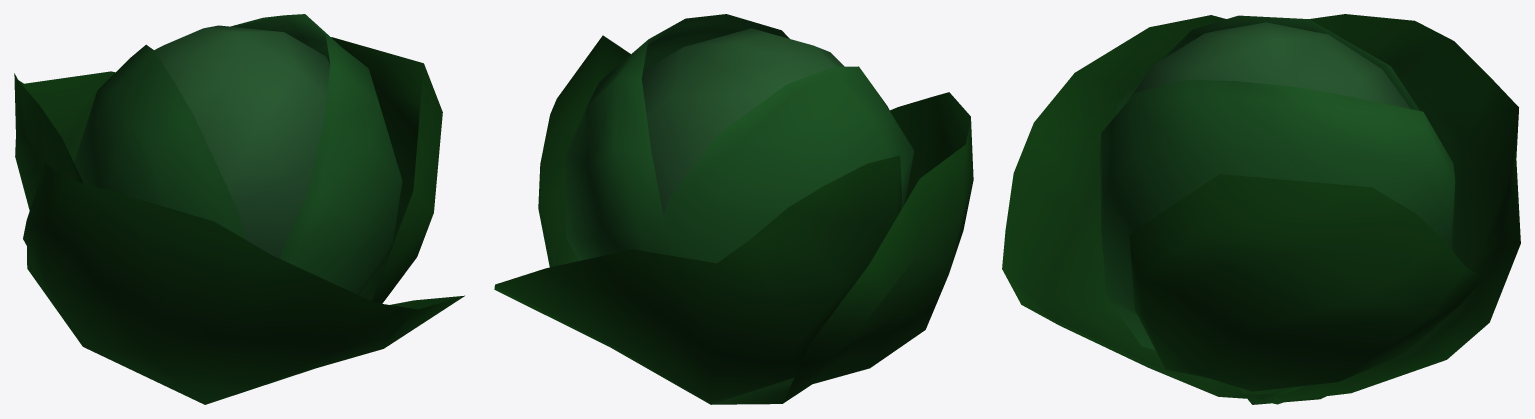
Rendered from Lettuce_Medium2.fbx.
3 renders of one model, left to right at view 1: azimuth 30°, elevation 25°; view 2: azimuth 150°, elevation 25°; view 3: azimuth 270°, elevation 25°, orthographic. The views are drawn at different scales.
Visible parts, largest first — view 1: Lettuce_Medium2; view 2: Lettuce_Medium2; view 3: Lettuce_Medium2.
Boxes of the visible parts, left/top/right/bottom form: Lettuce_Medium2: left=14, top=14, right=464, bottom=404; Lettuce_Medium2: left=494, top=14, right=973, bottom=404; Lettuce_Medium2: left=1002, top=14, right=1520, bottom=404.
Size of the model in its own units: 50.69 by 42.77 by 56.52.
